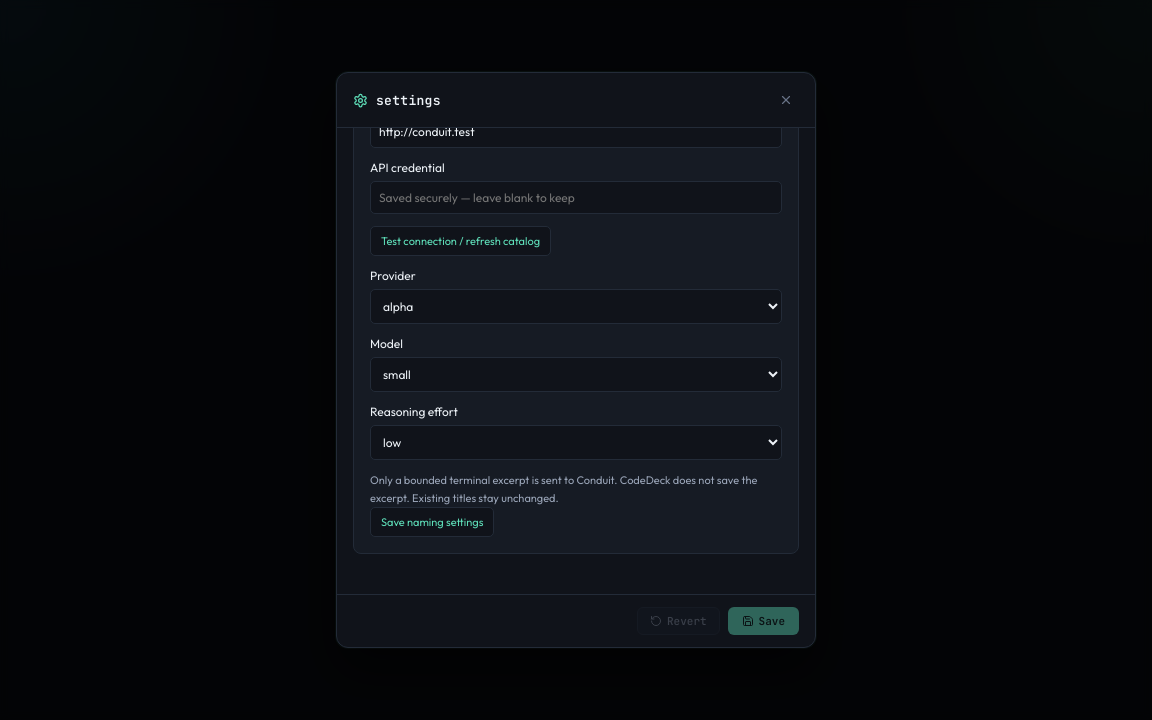
Test: session naming settings › keeps naming changes unsaved and reports failure when the main Save is rejected
(page scrolled)
Select "high" in the dropdown named "Naming effort" at (576, 443), box [370, 425, 782, 460]
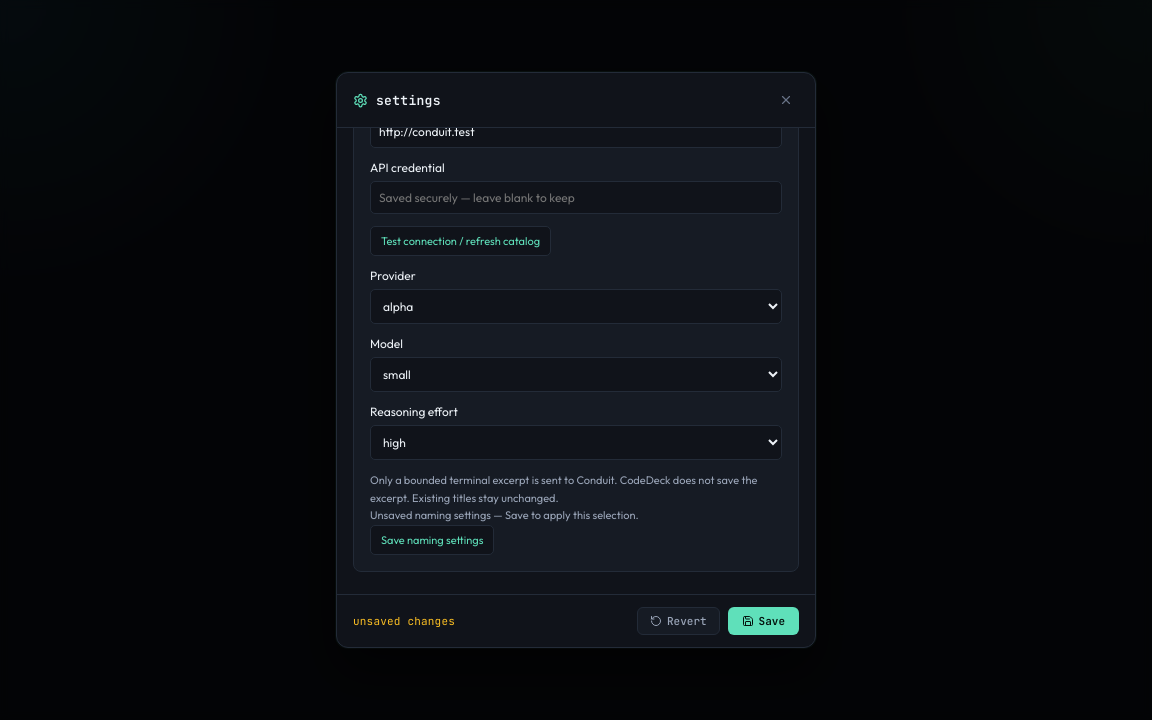
Click the button "Save" at (763, 621), box [728, 607, 799, 635]
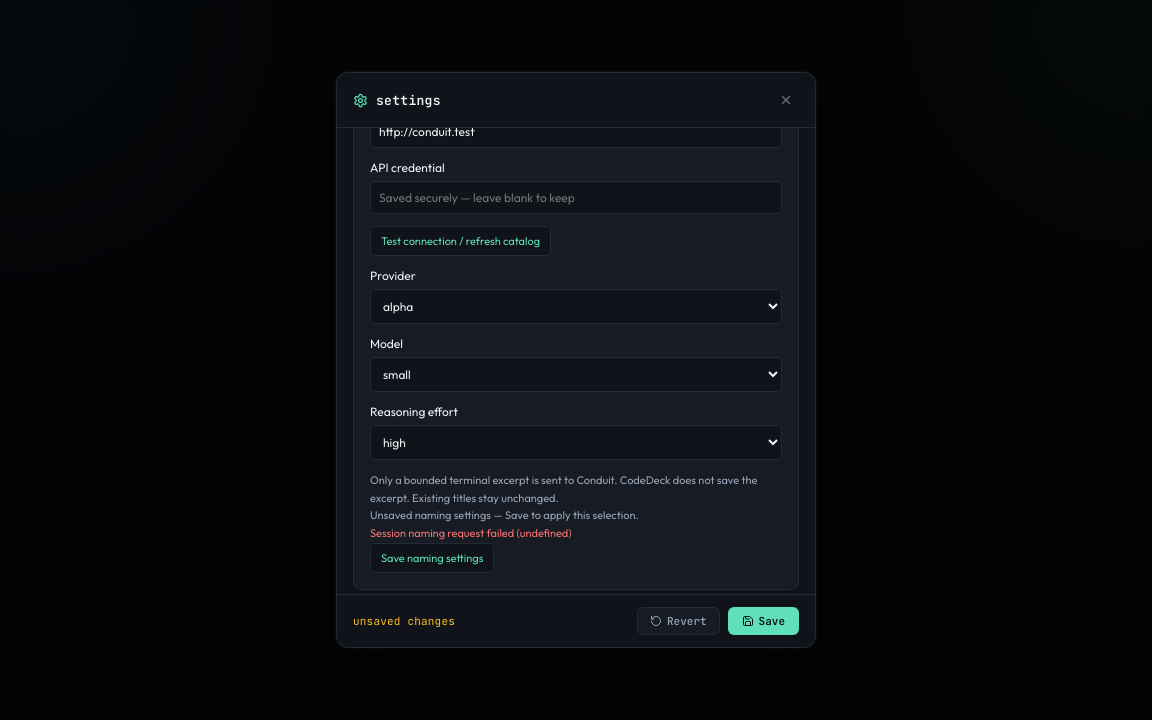
Check: the text "Unsaved naming settings — Save to apply this selection." is shown, box [370, 508, 639, 522]
Check: the message "Session naming request failed (undefined)" is shown, box [370, 526, 572, 540]
